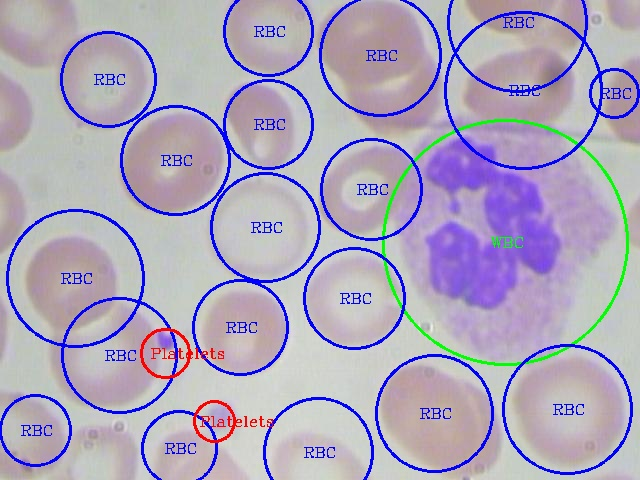Platelets: (203, 394, 240, 433), (153, 327, 179, 353)
RBC: (372, 358, 503, 478), (505, 349, 631, 465), (39, 303, 164, 409), (112, 109, 227, 216), (197, 174, 313, 279), (455, 39, 580, 132), (48, 24, 155, 132), (297, 251, 407, 350), (309, 139, 419, 237), (18, 230, 122, 332), (309, 0, 425, 87), (195, 282, 293, 378), (349, 46, 446, 135), (220, 78, 303, 175), (219, 0, 321, 75), (0, 382, 70, 478), (47, 413, 144, 478), (262, 424, 369, 478), (145, 424, 250, 478), (1, 0, 83, 66)
WBC: (385, 90, 629, 375)
